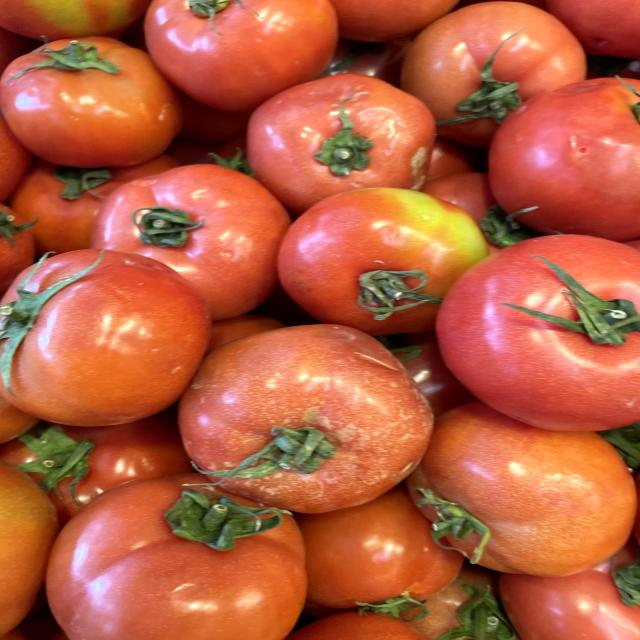tomato: (178, 310, 442, 517), (28, 468, 321, 640), (436, 229, 640, 439), (0, 244, 232, 428), (240, 66, 449, 211), (0, 25, 193, 172)
